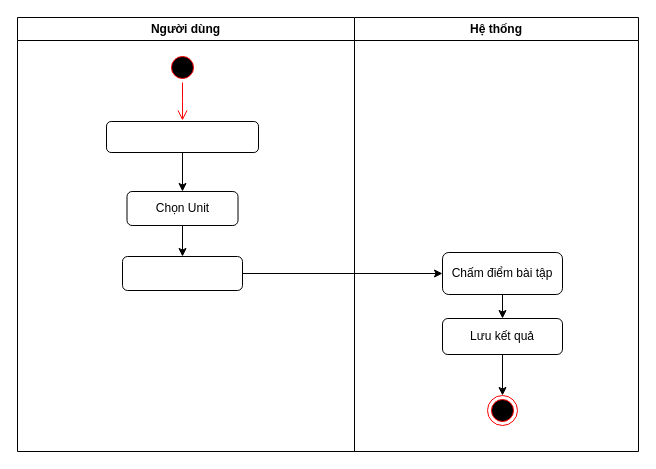
Image size: 656x469. Some labels were removed from this diagram. Here are the shapes that lost their labels. From the top down, the centre of each, then its label:
At point (182, 136): "Chọn chương trình học".
At point (182, 273): "Làm bài tập (exercise)".
